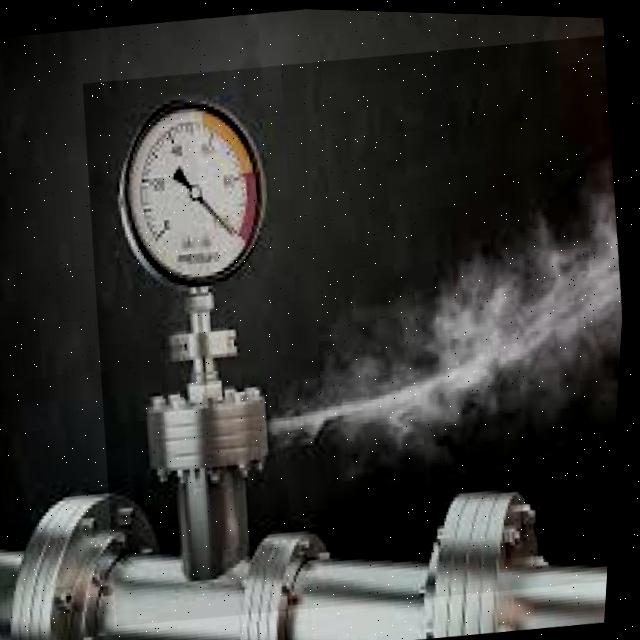corrosion: (46, 22, 639, 586)
